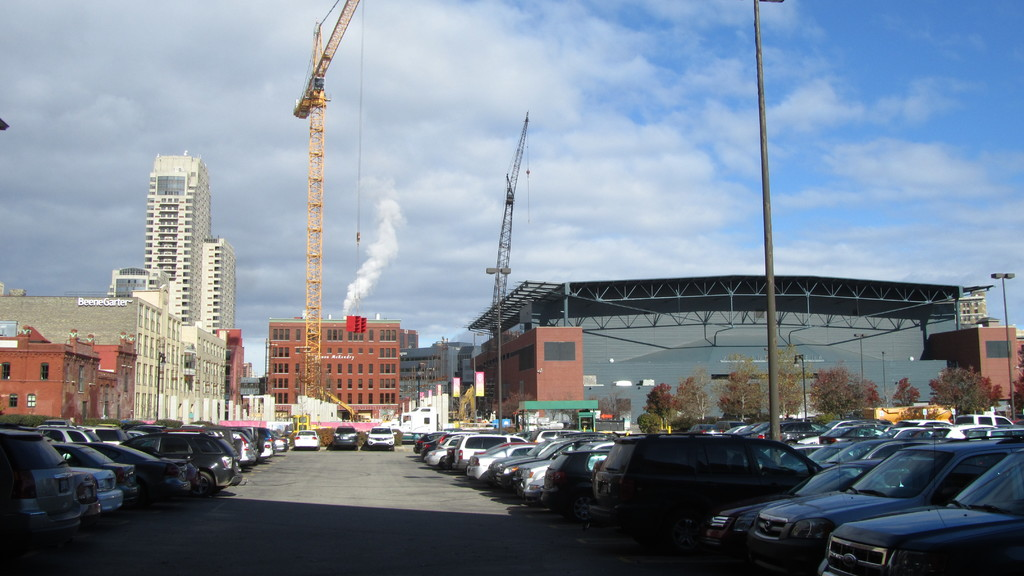Car: (410, 414, 1014, 521), (747, 418, 1023, 574), (0, 421, 289, 537), (705, 456, 986, 563), (814, 449, 1023, 575), (366, 424, 396, 450), (965, 424, 1023, 437), (333, 424, 359, 450), (295, 429, 323, 449)
